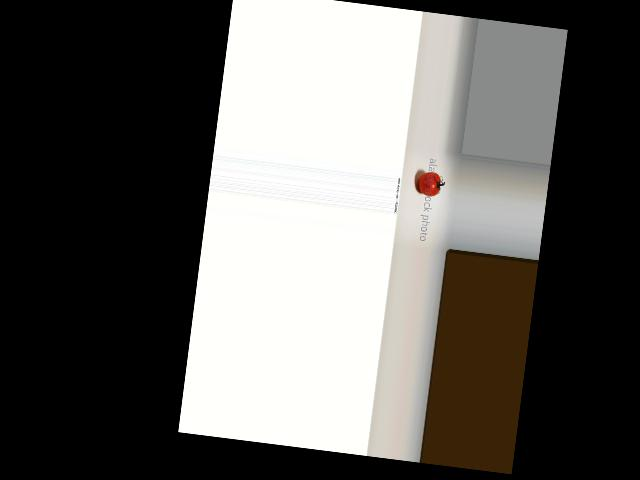tomato: (416, 170, 441, 197)
